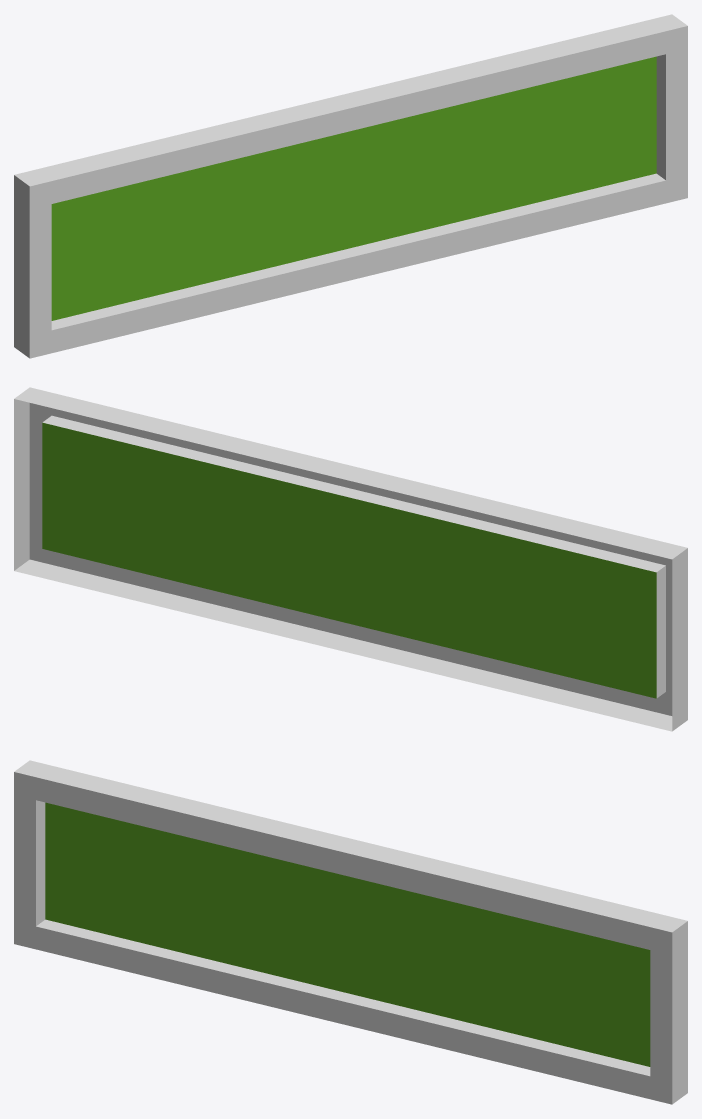
Rendered from UHC_Tag.fbx.
3 renders of one model, top to bottom at view 1: azimuth 30°, elevation 25°; view 2: azimuth 150°, elevation 25°; view 3: azimuth 330°, elevation 25°, orthographic.
Visible parts, largest first — view 1: Slot_Tag; view 2: Slot_Tag; view 3: Slot_Tag.
Boxes of the visible parts, left/top/right/bottom form: Slot_Tag: left=14, top=14, right=687, bottom=358; Slot_Tag: left=14, top=387, right=687, bottom=731; Slot_Tag: left=14, top=760, right=687, bottom=1104.
Bounding box in the file's own units: 6 × 1.5 × 0.25.
